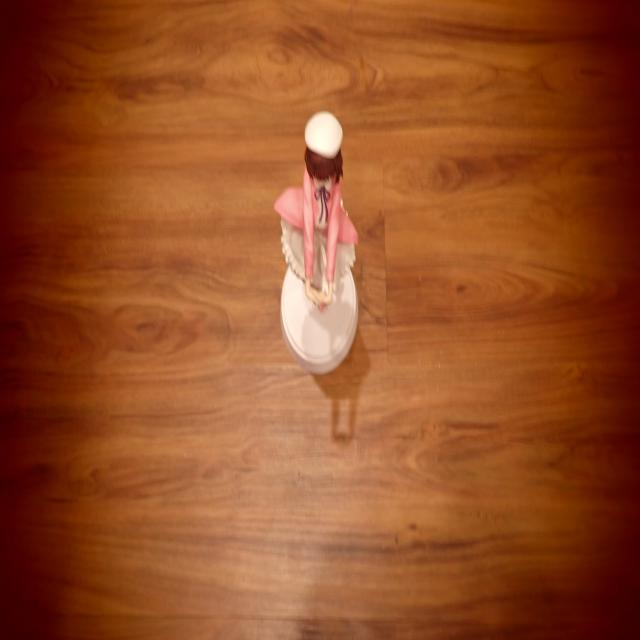My-pink-anime-figure: (275, 112, 358, 309)
